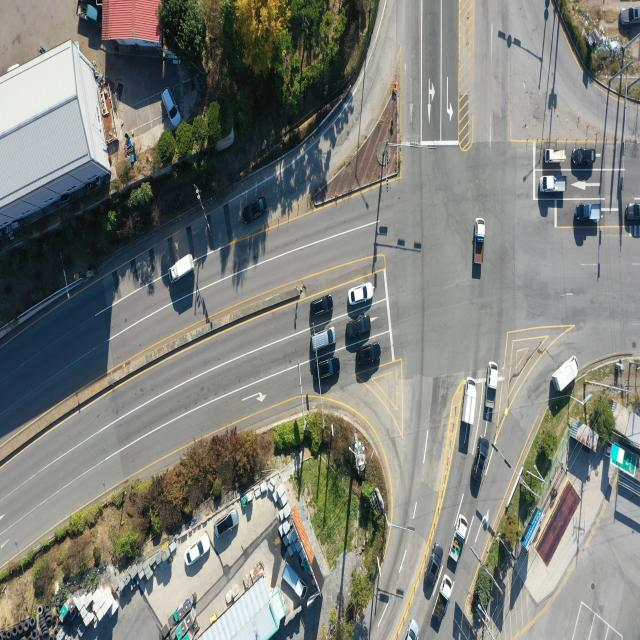car: (185, 536, 210, 568), (161, 90, 180, 131), (472, 437, 488, 480), (313, 356, 341, 380), (309, 327, 336, 351), (425, 548, 442, 586), (241, 199, 265, 225), (215, 512, 238, 539), (572, 144, 596, 168), (348, 283, 373, 306), (346, 319, 371, 342), (356, 343, 382, 365), (311, 295, 334, 317), (620, 6, 639, 25), (404, 621, 421, 640), (626, 203, 640, 221)
small_truck: (433, 574, 454, 626), (553, 354, 580, 394), (448, 517, 467, 565), (281, 563, 307, 597), (461, 377, 477, 427), (170, 253, 195, 283), (484, 361, 498, 411), (576, 202, 603, 226), (473, 213, 484, 267), (77, 1, 99, 26), (540, 175, 566, 193), (548, 149, 568, 164)
